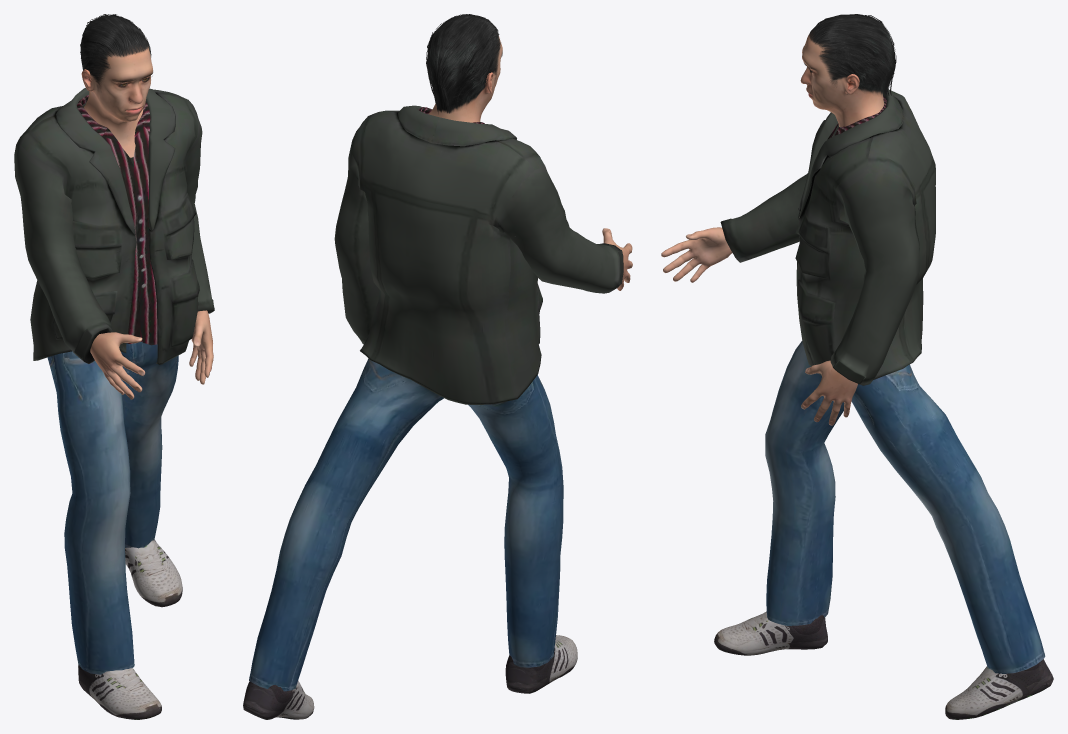
The model's file is uomo-03.glb.
3 renders of one model, left to right at view 1: azimuth 30°, elevation 25°; view 2: azimuth 150°, elevation 25°; view 3: azimuth 270°, elevation 25°, orthographic. The views are drawn at different scales.
Visible parts, largest first — view 1: Human.male_casualsuit05, Human, Human.shoes05, Human.short04; view 2: Human.male_casualsuit05, Human.short04, Human.shoes05, Human; view 3: Human.male_casualsuit05, Human, Human.shoes05, Human.short04.
Boxes of the visible parts, x1,y1,x2,y2 form: Human.male_casualsuit05: (14, 88, 214, 674); Human: (81, 47, 213, 399); Human.shoes05: (78, 540, 182, 719); Human.short04: (80, 14, 151, 90); Human.male_casualsuit05: (249, 105, 623, 691); Human.short04: (426, 14, 500, 113); Human.shoes05: (243, 635, 577, 719); Human: (429, 36, 632, 290); Human.male_casualsuit05: (720, 89, 1045, 673); Human: (661, 33, 884, 425); Human.shoes05: (714, 611, 1053, 719); Human.short04: (809, 14, 896, 95).
Bounding box in the file's own units: 0.6038 × 1.67 × 0.916.
Materials: 12 (12 with a texture image).
